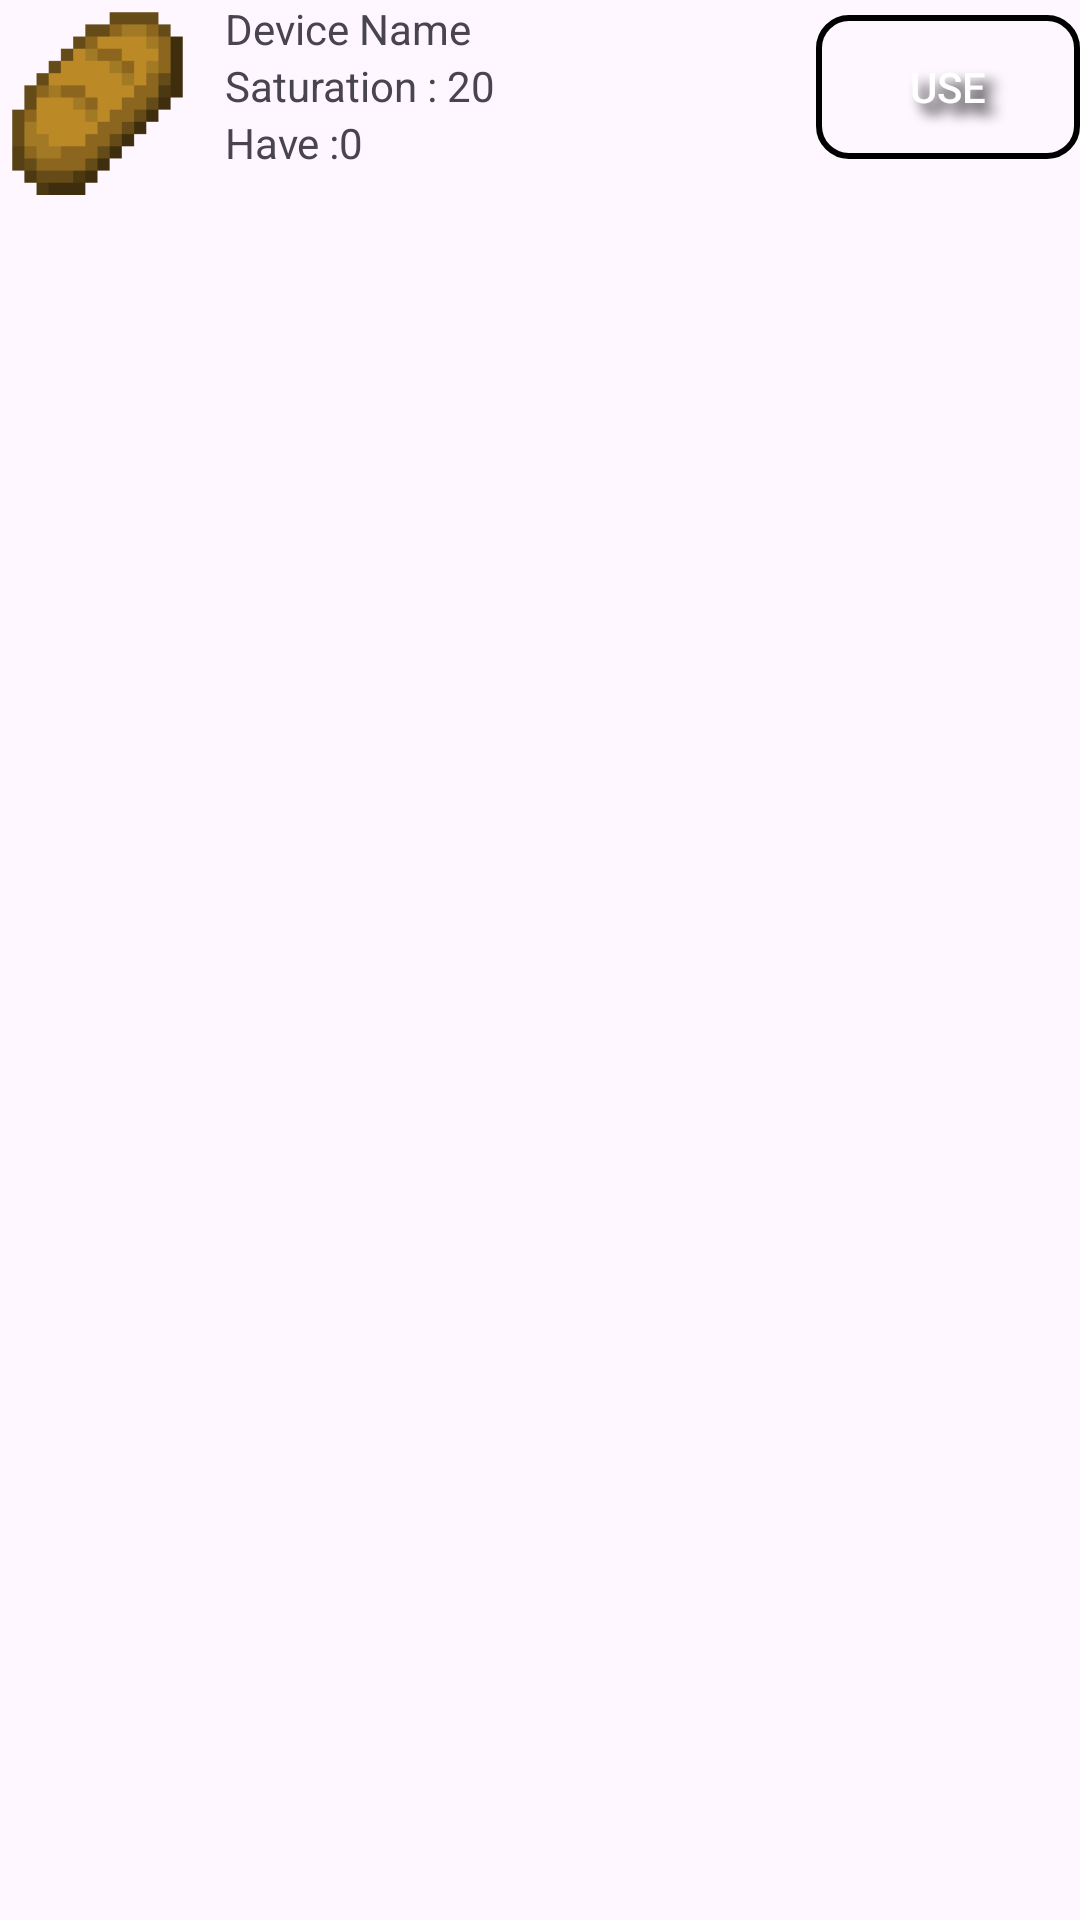

Named icons in this screenshot (1080*1920) and their centers, [x,y]:
bread: [97,103]
